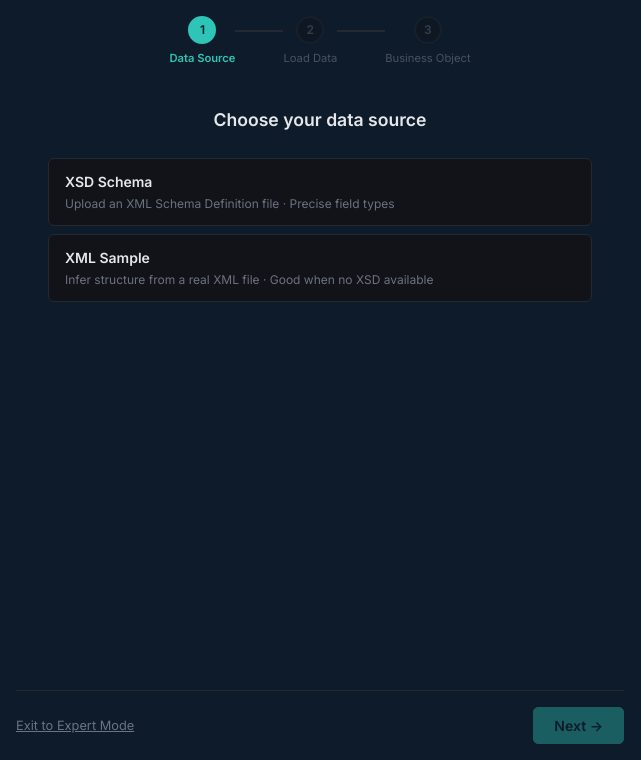
Test: WizardShell › Next button is enabled after selecting a source
This screenshot has width=641, height=760.
Click the radio button labelled "XSD Schema". click: (109, 181)
box: [48,158,592,226]
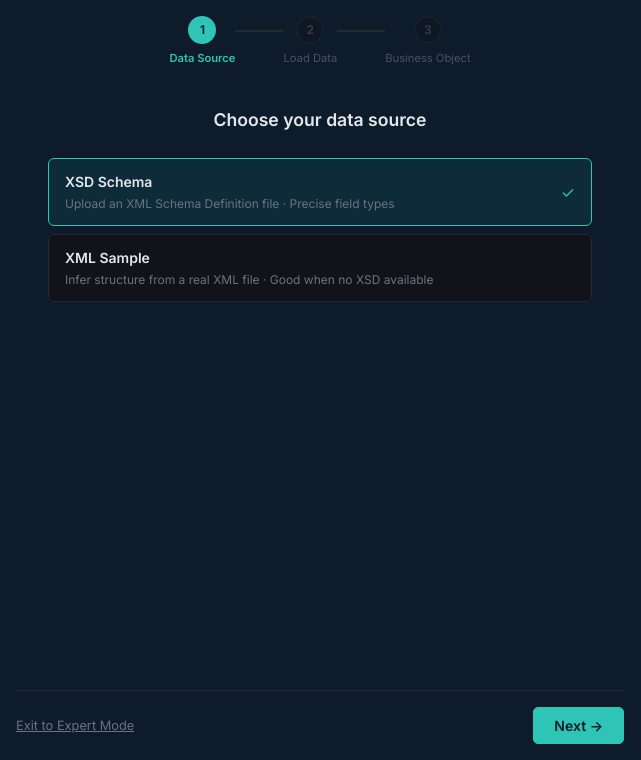
Result: the button "Next →" is enabled at [533,707,624,744]
